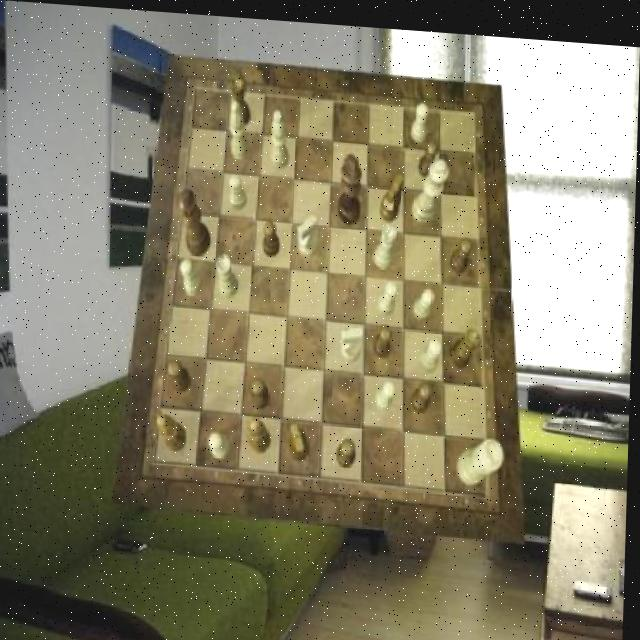bishop: (157, 412, 189, 451), (250, 414, 274, 451)
black-bishop: (338, 148, 363, 222)
black-king: (381, 167, 406, 217), (289, 419, 312, 458)
black-knight: (451, 230, 474, 269), (418, 132, 439, 172), (170, 357, 193, 390), (412, 375, 435, 407), (375, 319, 395, 354), (263, 217, 281, 254), (337, 434, 358, 463), (253, 375, 271, 407)
black-pawn: (176, 186, 213, 254)
black-queen: (452, 321, 481, 362), (230, 74, 251, 124)
black-rook: (229, 97, 251, 156), (271, 105, 290, 165)
white-bishop: (458, 431, 506, 481)
white-king: (298, 208, 320, 253), (342, 320, 366, 358)
white-knight: (182, 255, 205, 293), (422, 331, 445, 367), (378, 273, 399, 311), (414, 281, 436, 317), (411, 97, 429, 138), (230, 170, 249, 206), (210, 428, 234, 456), (377, 373, 398, 405)
white-pawn: (414, 150, 451, 218)
white-queen: (374, 217, 397, 264), (216, 251, 240, 295)
